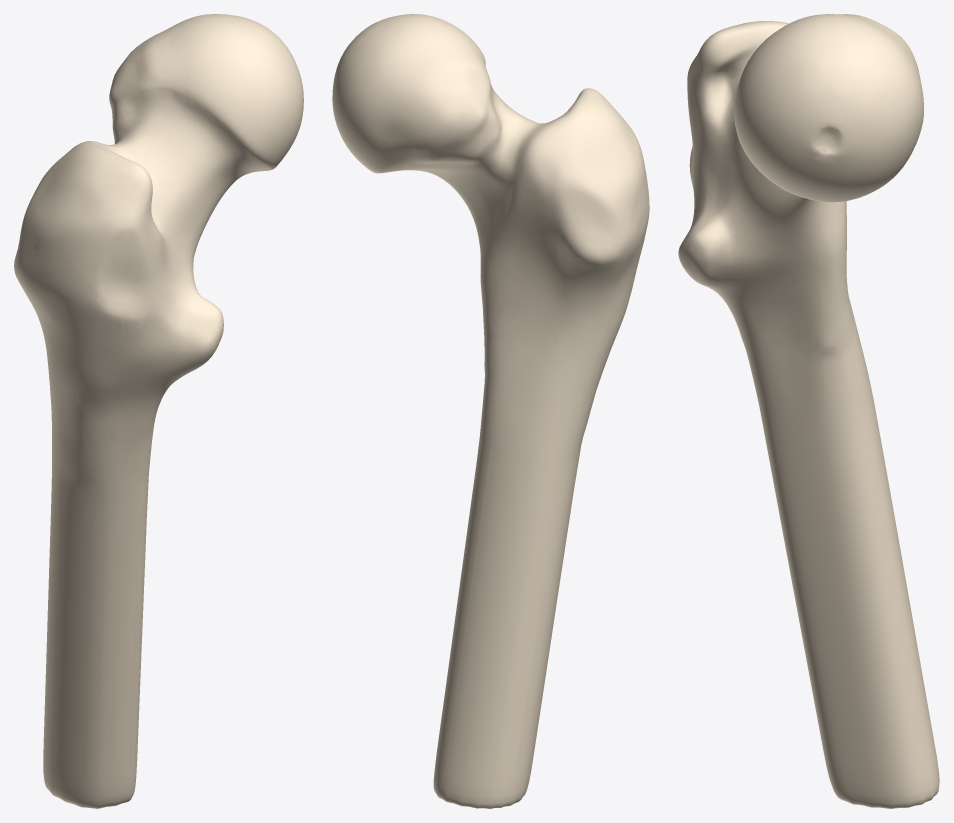
File: femur_MQ.glb
3 renders of one model, left to right at view 1: azimuth 30°, elevation 25°; view 2: azimuth 150°, elevation 25°; view 3: azimuth 270°, elevation 25°, orthographic. The views are drawn at different scales.
Parts seen in each view (by area): view 1: Femur-CAM; view 2: Femur-CAM; view 3: Femur-CAM.
Boxes of the visible parts, x1,y1,x2,y2 form: Femur-CAM: [14, 14, 303, 808]; Femur-CAM: [332, 14, 649, 808]; Femur-CAM: [678, 14, 939, 808].
Size of the model in its own units: 9.67 by 24.76 by 7.13.
